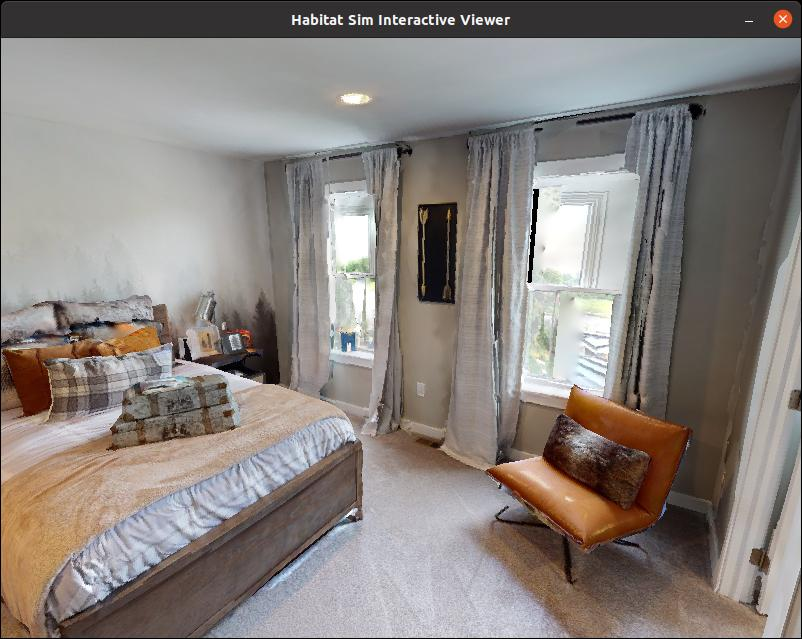bed: (0, 263, 425, 639)
sofa: (491, 369, 704, 599)
